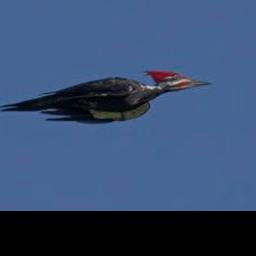Woodpecker: (0, 70, 212, 123)
